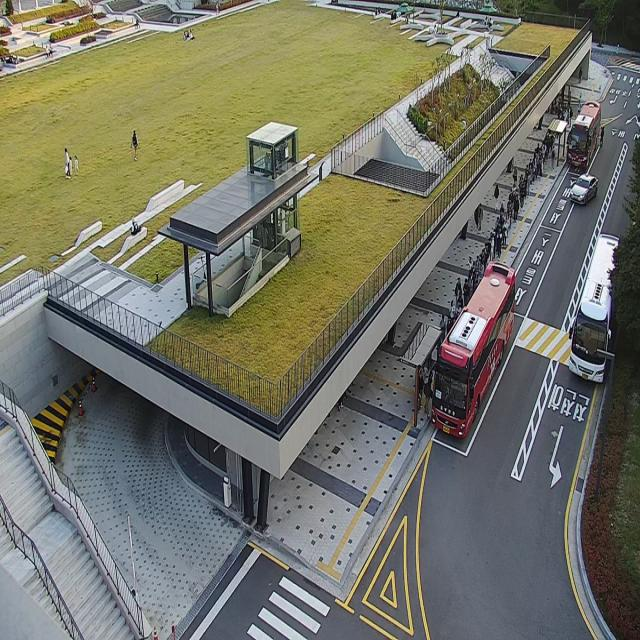queue: (415, 101, 573, 428)
